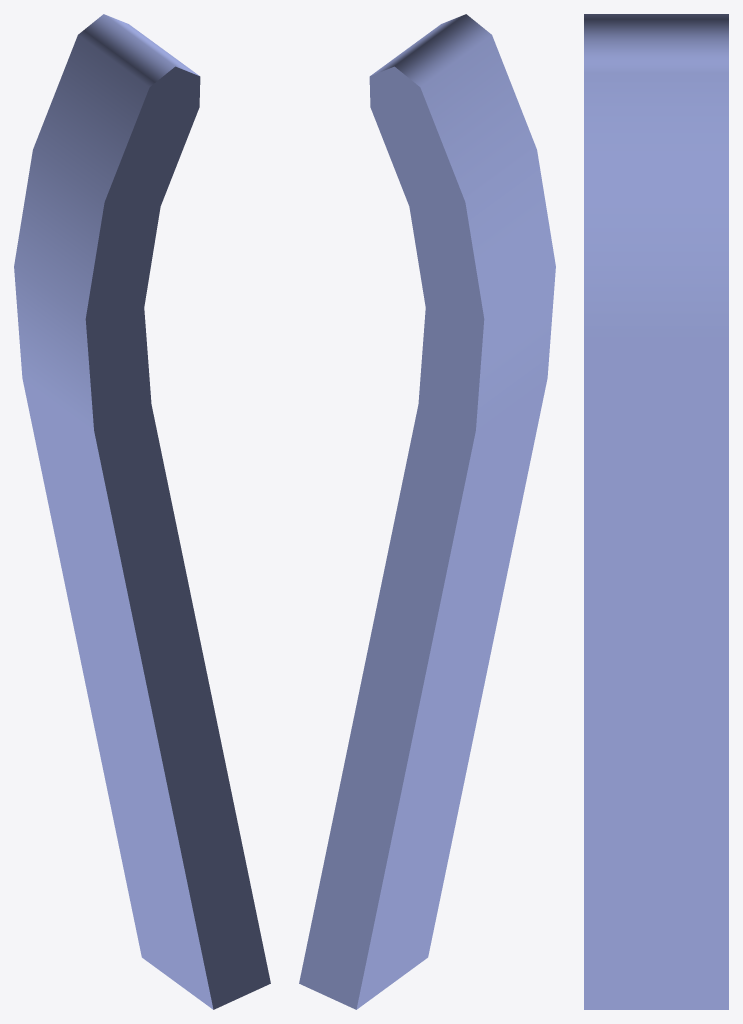
File: Copie de piece bord proche milieu^Copie de Assemblage plan_Horloge Comtoise Verge - Sonnerie.obj
The picture shows the model from 3 angles, left to right: view 1: azimuth 30°, elevation 25°; view 2: azimuth 150°, elevation 25°; view 3: azimuth 270°, elevation 25°; orthographic projection.
Visible parts, largest first — view 1: Face_4, Face_1, Face_5, Face_8; view 2: Face_2, Face_1, Face_5, Face_8; view 3: Face_6, Face_7, Face_8.
Boxes of the visible parts, x1,y1,x2,y2 form: Face_4: (85, 66, 270, 1009); Face_1: (22, 378, 213, 1009); Face_5: (14, 35, 149, 430); Face_8: (78, 14, 199, 87); Face_2: (299, 66, 484, 1009); Face_1: (356, 378, 547, 1009); Face_5: (420, 35, 555, 430); Face_8: (370, 14, 491, 87); Face_6: (584, 337, 728, 1009); Face_7: (584, 73, 728, 337); Face_8: (584, 14, 728, 72).
Bounding box in the file's own units: 0.00537 × 0.0264 × 0.0036.
